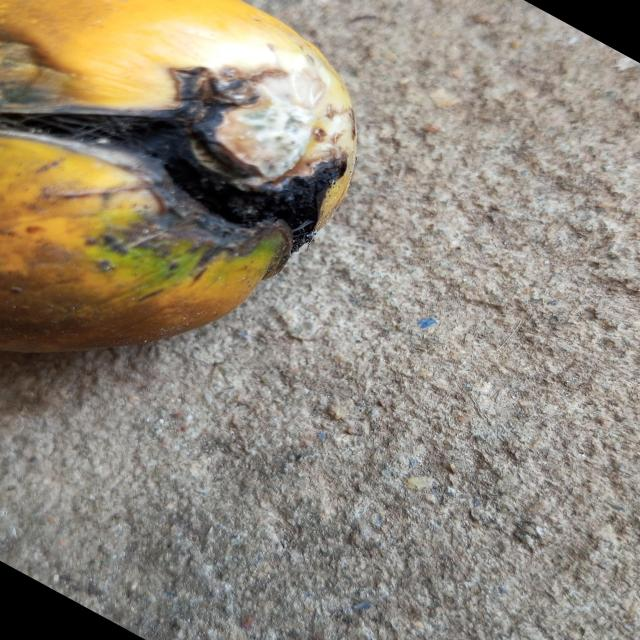damaged: (0, 0, 355, 356)
